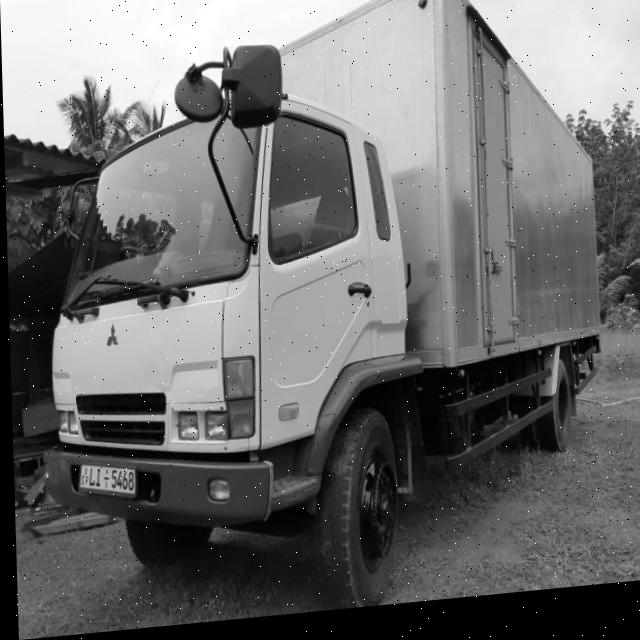truck: (21, 31, 433, 592)
